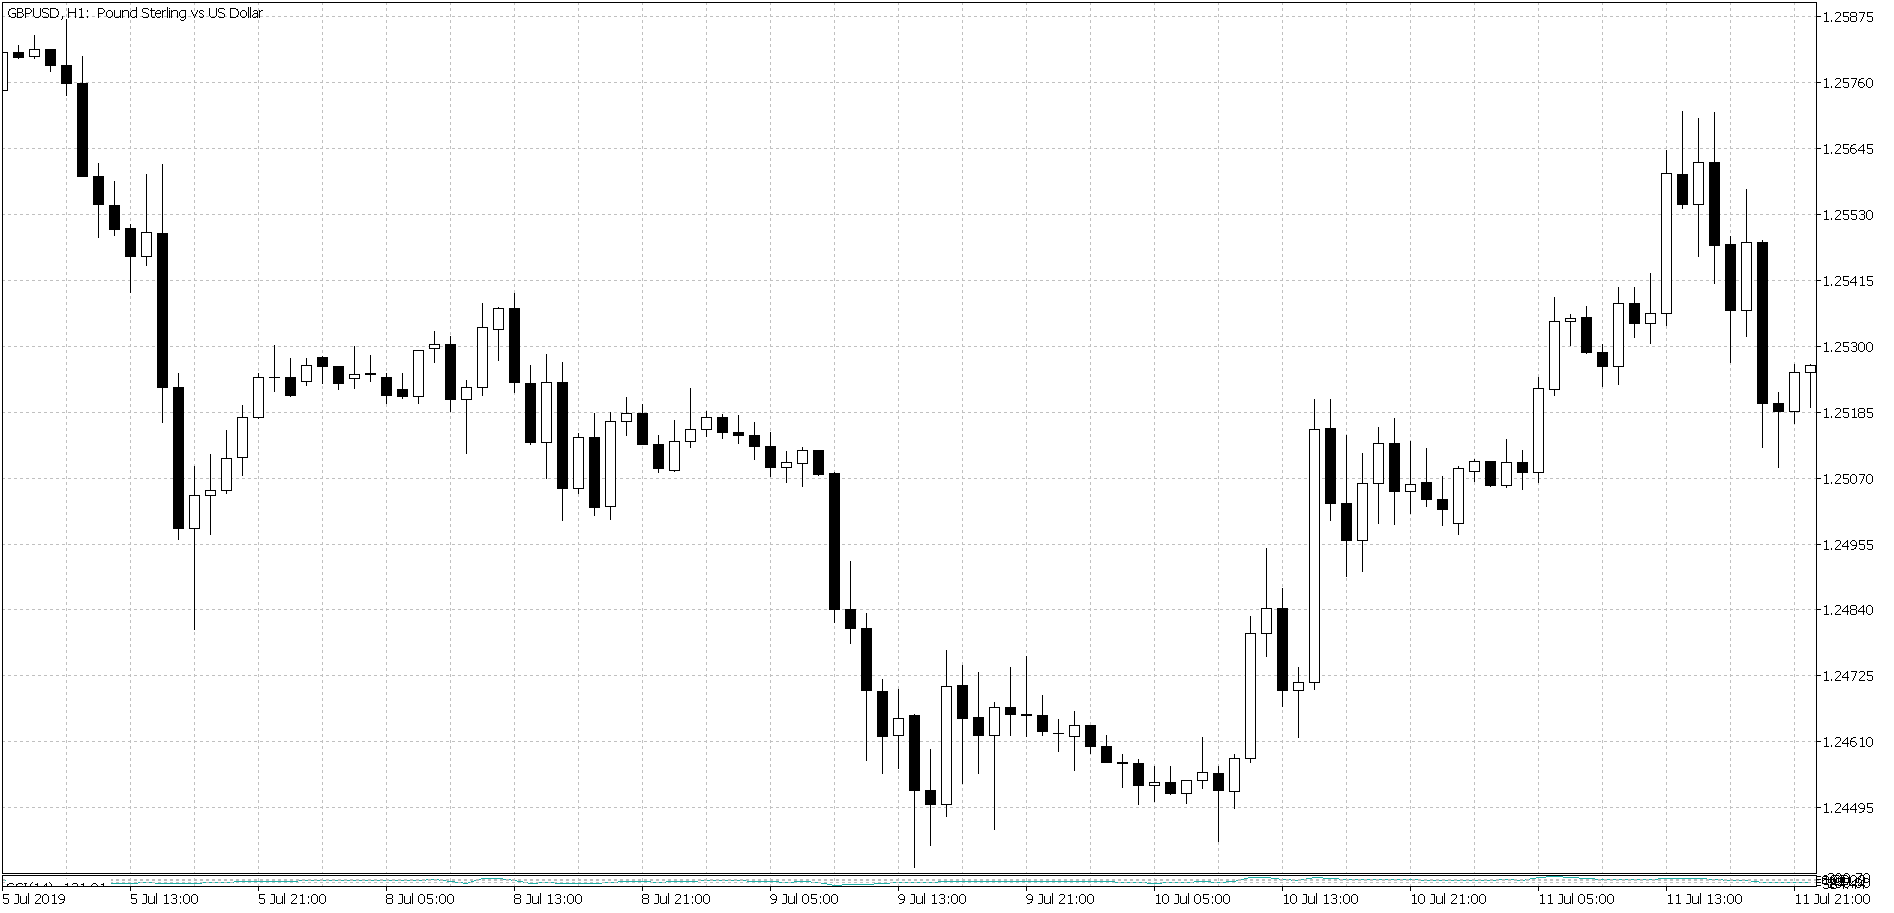3blackcrows: (42, 31, 92, 187)
3whitesoldiers: (186, 419, 233, 578)
hammer: (460, 376, 473, 450), (1292, 675, 1308, 737)
